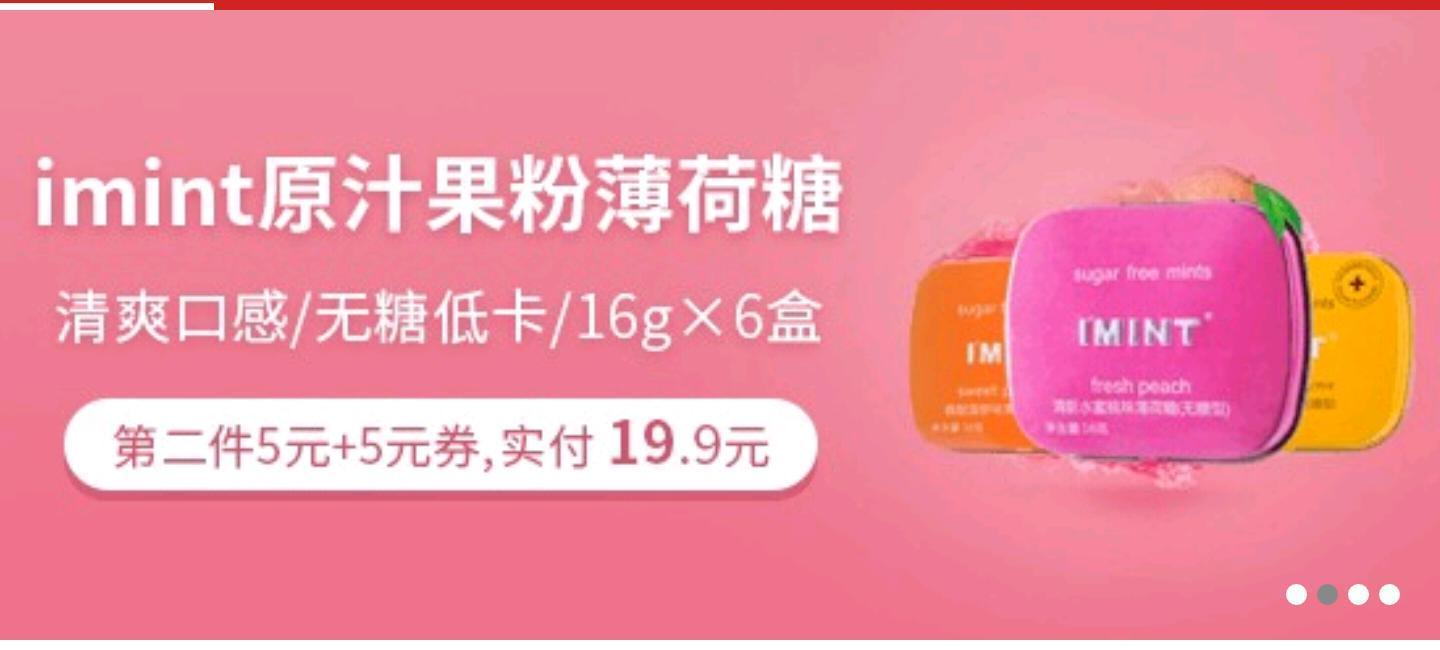ImgView: (1, 1, 1439, 649)
